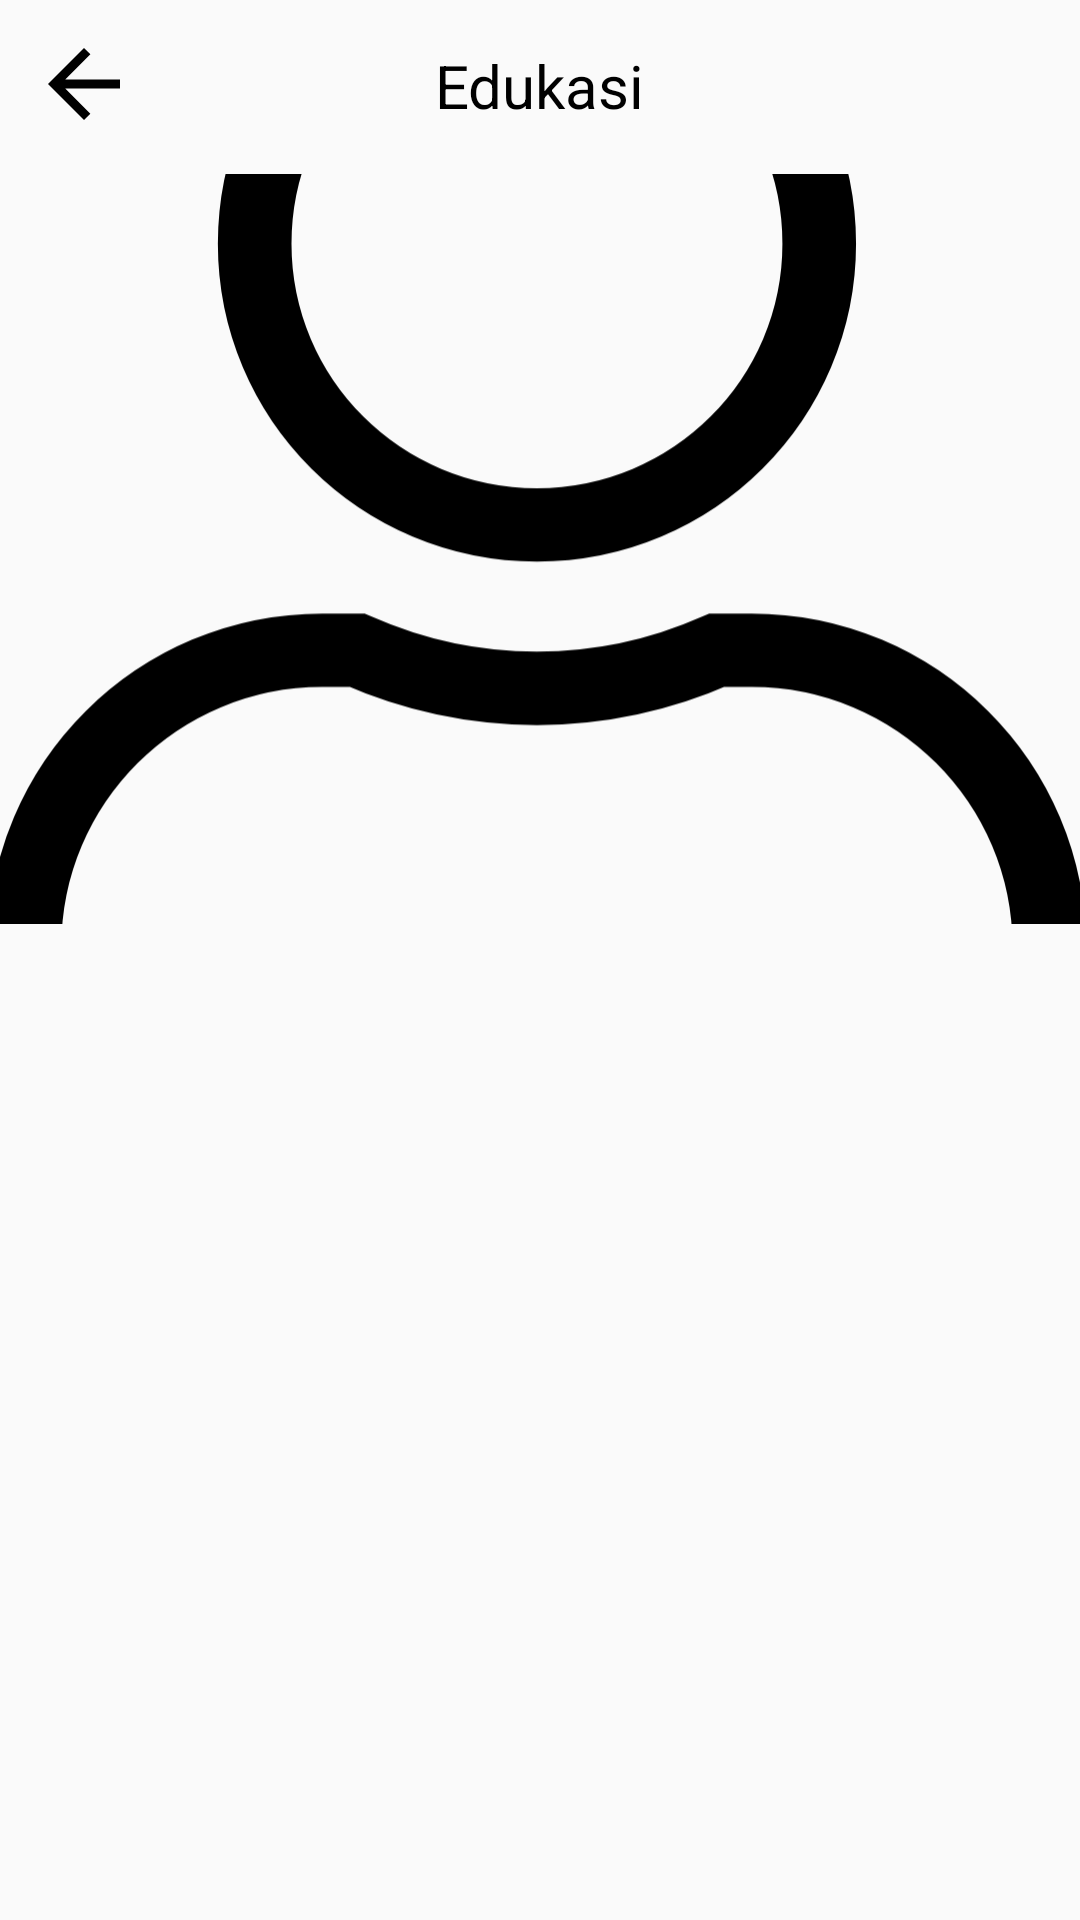

Screen size 1080px x 1920px. Icon name, then its box in pixels as [x1, y1, x2, y2]:
back: [48, 48, 120, 120]
